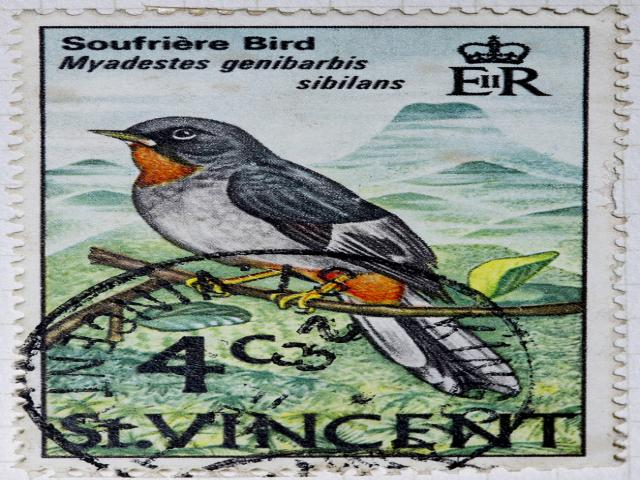Bird: (85, 114, 523, 402)
